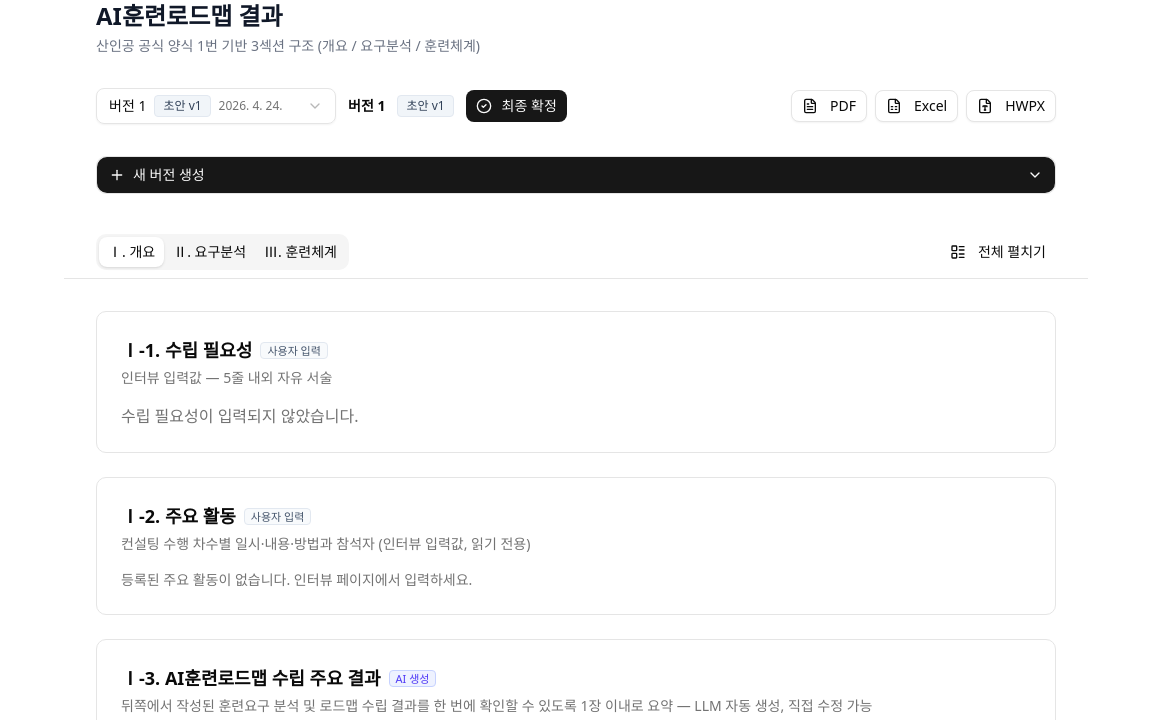
Test: RoadmapResultClient — 최종 확정 AlertDialog (#2) › AlertDialog 본문에 정확한 안내문이 노출된다
Click the button with test id "finalize-roadmap-button": (516, 106) [466,90,567,122]
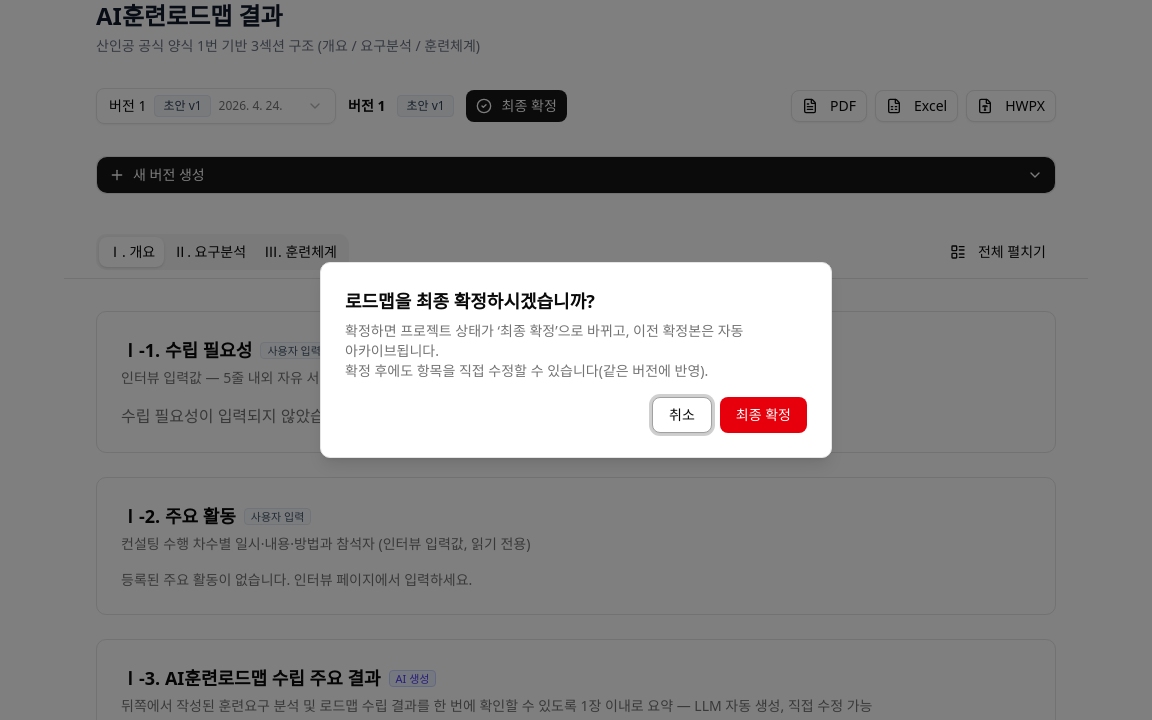
Expected: the dialog shows "확정 후에도 항목을 직접 수정할 수 있습니다(같은 버전에 반영).", [345,361,708,380]
